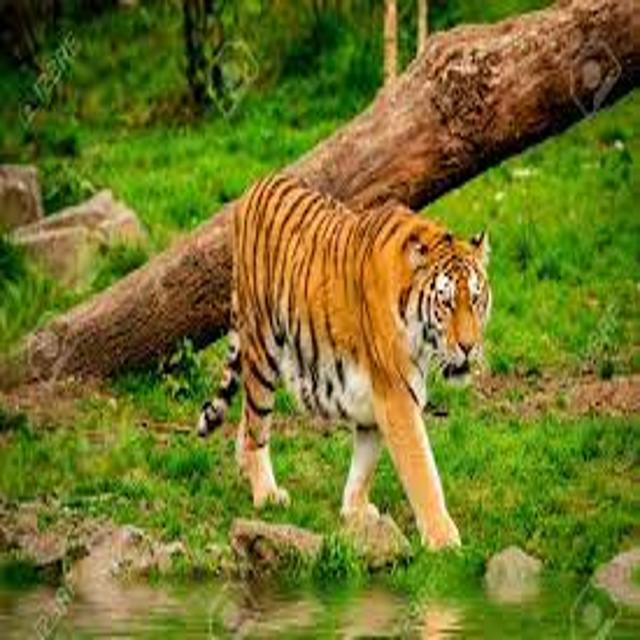tiger: (159, 134, 538, 582)
